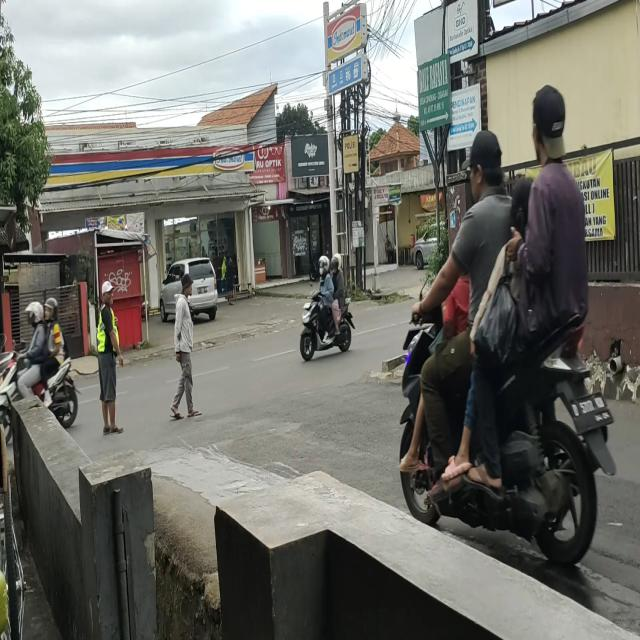helmet: (27, 302, 43, 324), (44, 298, 57, 320), (319, 256, 329, 273), (332, 254, 342, 271)
no-helmet: (532, 86, 567, 163), (469, 130, 503, 197), (512, 177, 532, 220)
